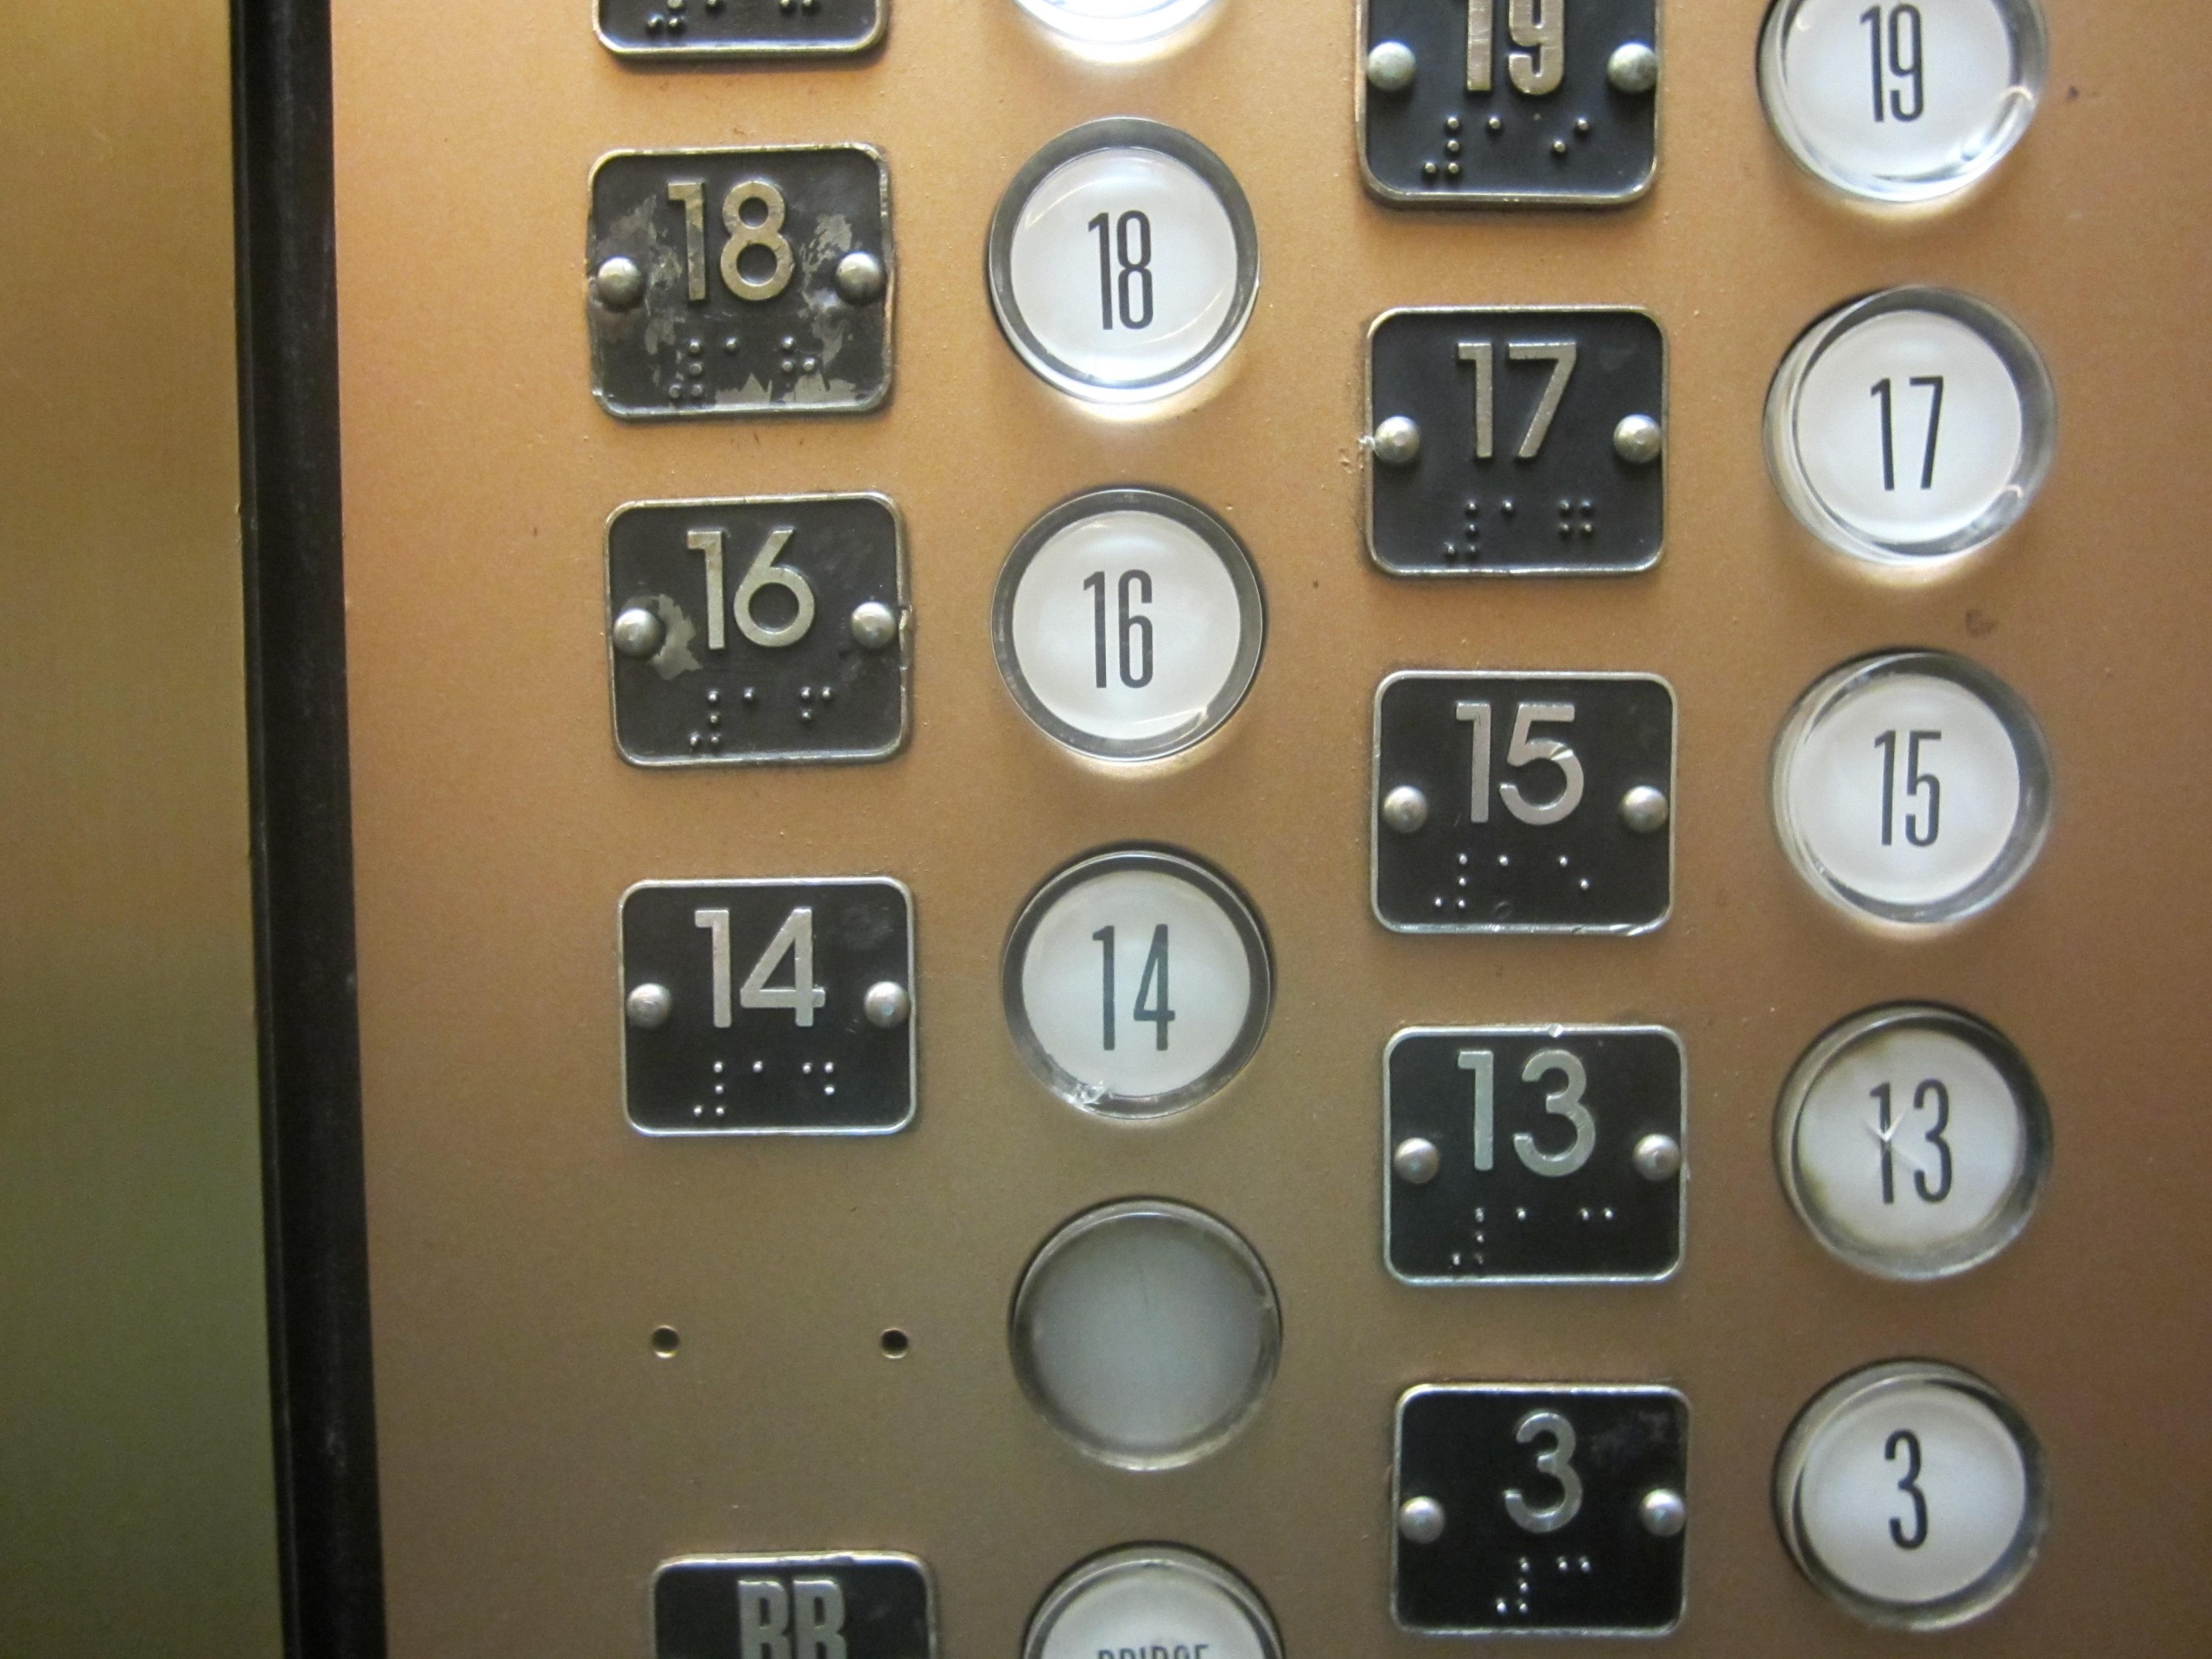13: (1376, 1019, 1693, 1291), (1768, 997, 2057, 1288)
14: (995, 835, 1282, 1133), (615, 871, 923, 1140)
15: (1362, 662, 1681, 943), (1763, 641, 2060, 936)
16: (597, 486, 918, 774), (986, 477, 1275, 769)
17: (1355, 300, 1674, 584), (1756, 279, 2062, 566)
18: (578, 134, 900, 427), (982, 113, 1266, 410)
19: (1353, 0, 1665, 220), (1750, 0, 2057, 207)
3: (1379, 1375, 1698, 1642), (1770, 1352, 2057, 1638)
empty: (1001, 1192, 1287, 1476)
